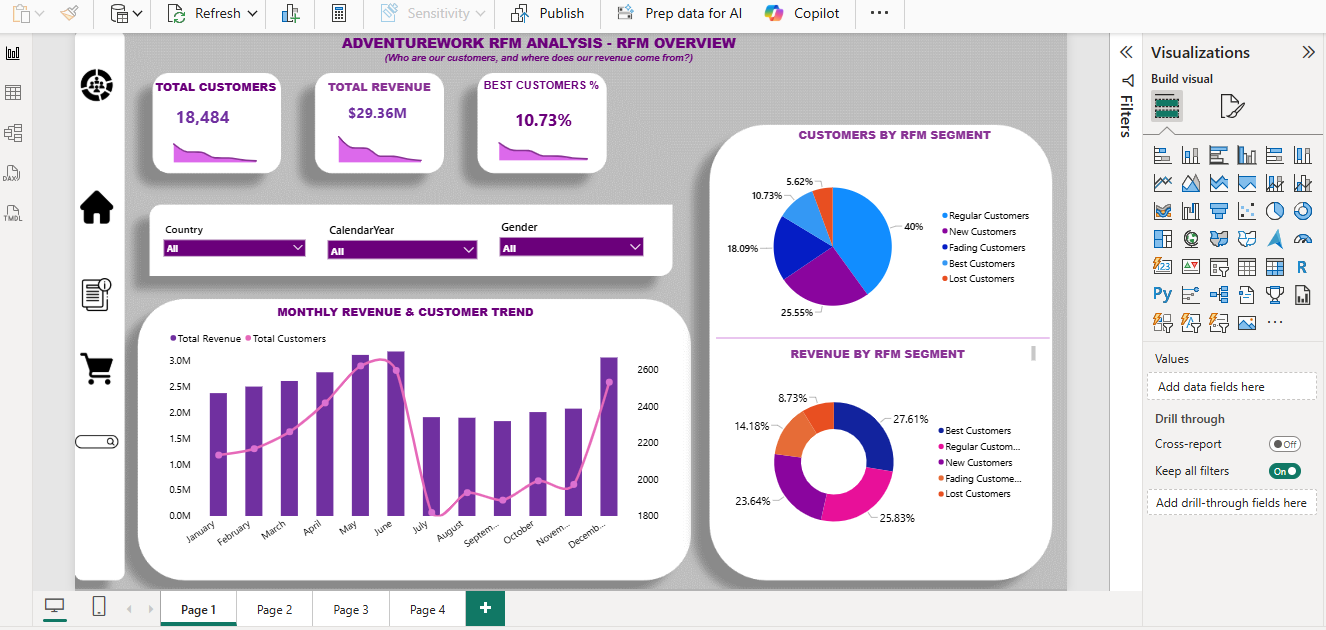

The dashboard page shown, as its layout file describes it:
{"tool":"powerbi","page":{"name":"Page 1","canvas":[1920,1080],"ordinal":0},"visuals":[{"type":"textbox","box":[398.5,0,997.2,59.9],"z":0},{"type":"textbox","box":[146.7,89.3,250.9,38.3],"z":1000},{"type":"cardVisual","fields":{"Data":["_Measures.Total Customers"]},"box":[170.5,119.7,153.1,80.8],"z":1000,"group":"g4"},{"type":"lineClusteredColumnComboChart","fields":{"Category":["DimDate.EnglishMonthName"],"Y":["_Measures.Total Revenue"],"Y2":["_Measures.Total Customers"]},"box":[166.5,557.4,979.4,468.4],"z":2000},{"type":"textbox","box":[165.8,525.1,946.1,31.9],"z":3000},{"type":"slicer","fields":{"Values":["DimCustomer.Gender"]},"box":[816.4,360.7,289.1,99.9],"z":4000},{"type":"slicer","fields":{"Values":["DimDate.CalendarYear"]},"box":[483.7,365,299.8,91.4],"z":5000},{"type":"textbox","box":[489,89.3,208.3,38.3],"z":6000},{"type":"textbox","box":[1301.1,182.8,571.9,36.1],"z":7000},{"type":"cardVisual","fields":{"Data":["_Measures.Total Revenue"]},"box":[512.3,119.1,150.9,63.8],"z":8000,"group":"g3"},{"type":"donutChart","fields":{"Category":["DimCustomer.RFM Segment"],"Y":["_Measures.Total Revenue"]},"box":[1253.2,650.3,604.9,361.3],"z":8000},{"type":"textbox","box":[1255.2,604.9,602.8,28.9],"z":9000},{"type":"textbox","box":[788.6,88.8,229.2,39.2],"z":10000},{"type":"areaChart","fields":{"Category":["DimDate.EnglishDayNameOfWeek"],"Y":["_Measures.Total Revenue"]},"box":[484.7,165.9,212.6,99.9],"z":10000,"group":"g3"},{"type":"cardVisual","fields":{"Data":["_Measures.% High-value Customers"]},"box":[793,140.3,225.4,51],"z":11000,"group":"g2"},{"type":"slicer","fields":{"Values":["DimGeography.EnglishCountryRegionName"]},"box":[165.8,365,284.9,91.4],"z":11000},{"type":"image","box":[0,748.7,83.7,83.7],"z":12000},{"type":"image","box":[0,472.8,84.6,68.1],"z":13000},{"type":"image","box":[0,299.4,84.6,74.3],"z":14000},{"type":"image","box":[0,59.9,84.6,82.6],"z":15000},{"type":"group","id":"g1","title":"Group 1","box":[165.2,119.7,212.6,146.6],"z":16000},{"type":"group","id":"g2","title":"Group 2","box":[792.8,140.3,225.6,123.9],"z":17000},{"type":"group","id":"g3","title":"Group 3","box":[484.7,119.1,212.6,146.7],"z":18000},{"type":"pieChart","fields":{"Category":["DimCustomer.RFM Segment"],"Y":["_Measures.Total Customers"]},"box":[1240.8,239.5,631.7,348.9],"z":19000},{"type":"areaChart","fields":{"Category":["DimDate.EnglishDayNameOfWeek"],"Y":["_Measures.Total Revenue"]},"box":[165.2,183.7,212.6,82.6],"z":19001,"group":"g4"},{"type":"areaChart","fields":{"Category":["DimDate.EnglishDayNameOfWeek"],"Y":["_Measures.Total Revenue"]},"box":[792.8,183.7,225,80.5],"z":19003,"group":"g2"},{"type":"group","id":"g4","title":"Group 4","box":[165.2,119.7,212.6,146.6],"z":19006,"group":"g1"},{"type":"shape","box":[1240.8,573.9,646.2,31],"z":20000},{"type":"image","box":[0,613.5,83.7,70.8],"z":21000}]}

Visuals, with their boxes on the page's 1920x1080 design canvas (x1, y1, x2, y2). These are canvas units, not pixel positions in the 1326x630 screenshot, which may show the page scaled, cropped or inside an application window:
textbox: bbox(398, 0, 1396, 60)
textbox: bbox(147, 89, 398, 128)
cardVisual - _Measures.Total Customers: bbox(170, 120, 324, 200)
lineClusteredColumnComboChart - DimDate.EnglishMonthName x _Measures.Total Revenue: bbox(166, 557, 1146, 1026)
textbox: bbox(166, 525, 1112, 557)
slicer - DimCustomer.Gender: bbox(816, 361, 1106, 461)
slicer - DimDate.CalendarYear: bbox(484, 365, 784, 456)
textbox: bbox(489, 89, 697, 128)
textbox: bbox(1301, 183, 1873, 219)
cardVisual - _Measures.Total Revenue: bbox(512, 119, 663, 183)
donutChart - DimCustomer.RFM Segment x _Measures.Total Revenue: bbox(1253, 650, 1858, 1012)
textbox: bbox(1255, 605, 1858, 634)
textbox: bbox(789, 89, 1018, 128)
areaChart - DimDate.EnglishDayNameOfWeek x _Measures.Total Revenue: bbox(485, 166, 697, 266)
cardVisual - _Measures.% High-value Customers: bbox(793, 140, 1018, 191)
slicer - DimGeography.EnglishCountryRegionName: bbox(166, 365, 451, 456)
image: bbox(0, 749, 84, 832)
image: bbox(0, 473, 85, 541)
image: bbox(0, 299, 85, 374)
image: bbox(0, 60, 85, 142)
"Group 1" group: bbox(165, 120, 378, 266)
"Group 2" group: bbox(793, 140, 1018, 264)
"Group 3" group: bbox(485, 119, 697, 266)
pieChart - DimCustomer.RFM Segment x _Measures.Total Customers: bbox(1241, 240, 1872, 588)
areaChart - DimDate.EnglishDayNameOfWeek x _Measures.Total Revenue: bbox(165, 184, 378, 266)
areaChart - DimDate.EnglishDayNameOfWeek x _Measures.Total Revenue: bbox(793, 184, 1018, 264)
"Group 4" group: bbox(165, 120, 378, 266)
shape: bbox(1241, 574, 1887, 605)
image: bbox(0, 614, 84, 684)
